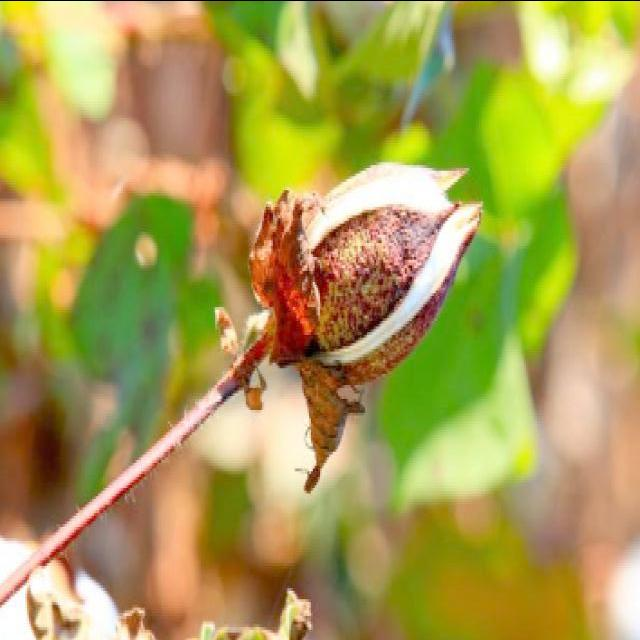Split Cotton Boll: (266, 155, 486, 384)
